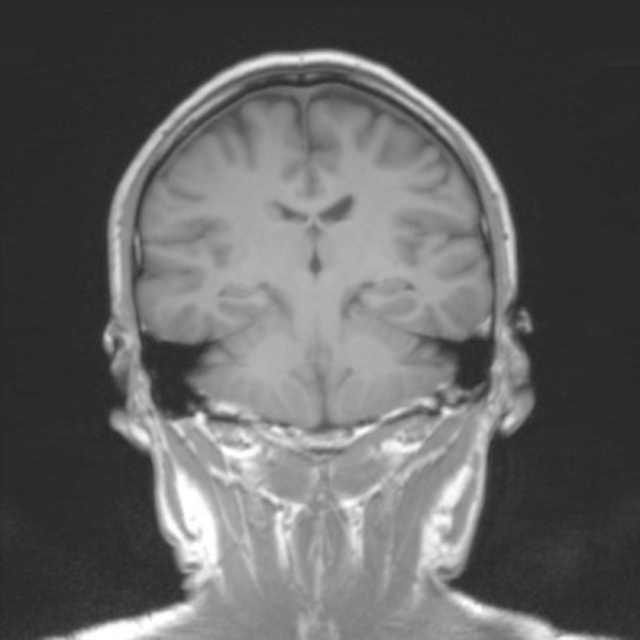glioma tumor: (169, 117, 465, 524)
